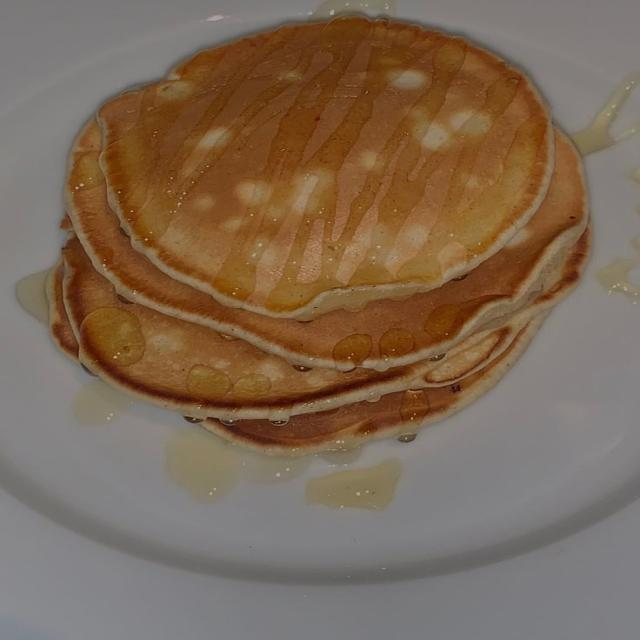pancake: (99, 17, 553, 319), (66, 122, 586, 370), (63, 233, 588, 420), (202, 312, 548, 456), (202, 312, 547, 456), (46, 260, 78, 360)
